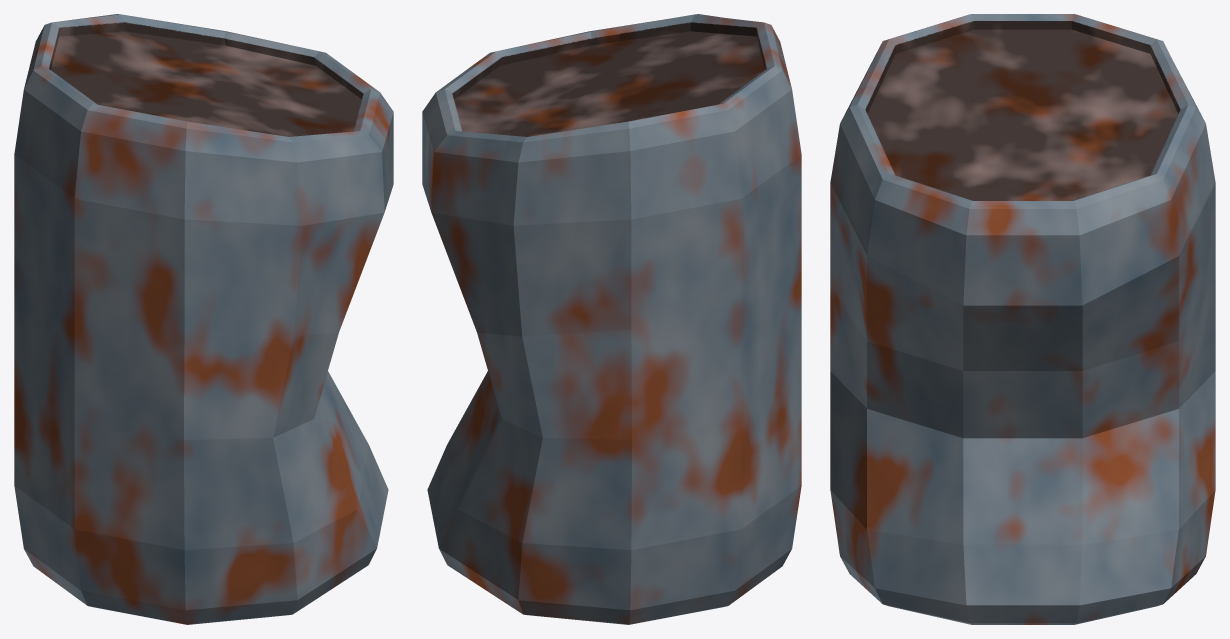
File: KalengBekas.fbx
3 renders of one model, left to right at view 1: azimuth 30°, elevation 25°; view 2: azimuth 150°, elevation 25°; view 3: azimuth 270°, elevation 25°, orthographic.
Parts seen in each view (by area): view 1: KalengBekas; view 2: KalengBekas; view 3: KalengBekas.
Part boxes in pixels (x1,y1,x2,y2): KalengBekas: (14, 14, 393, 624); KalengBekas: (422, 14, 801, 624); KalengBekas: (830, 14, 1215, 624).
Size of the model in its own units: 190 by 285 by 200.
Materials: 1 (1 with a texture image).
